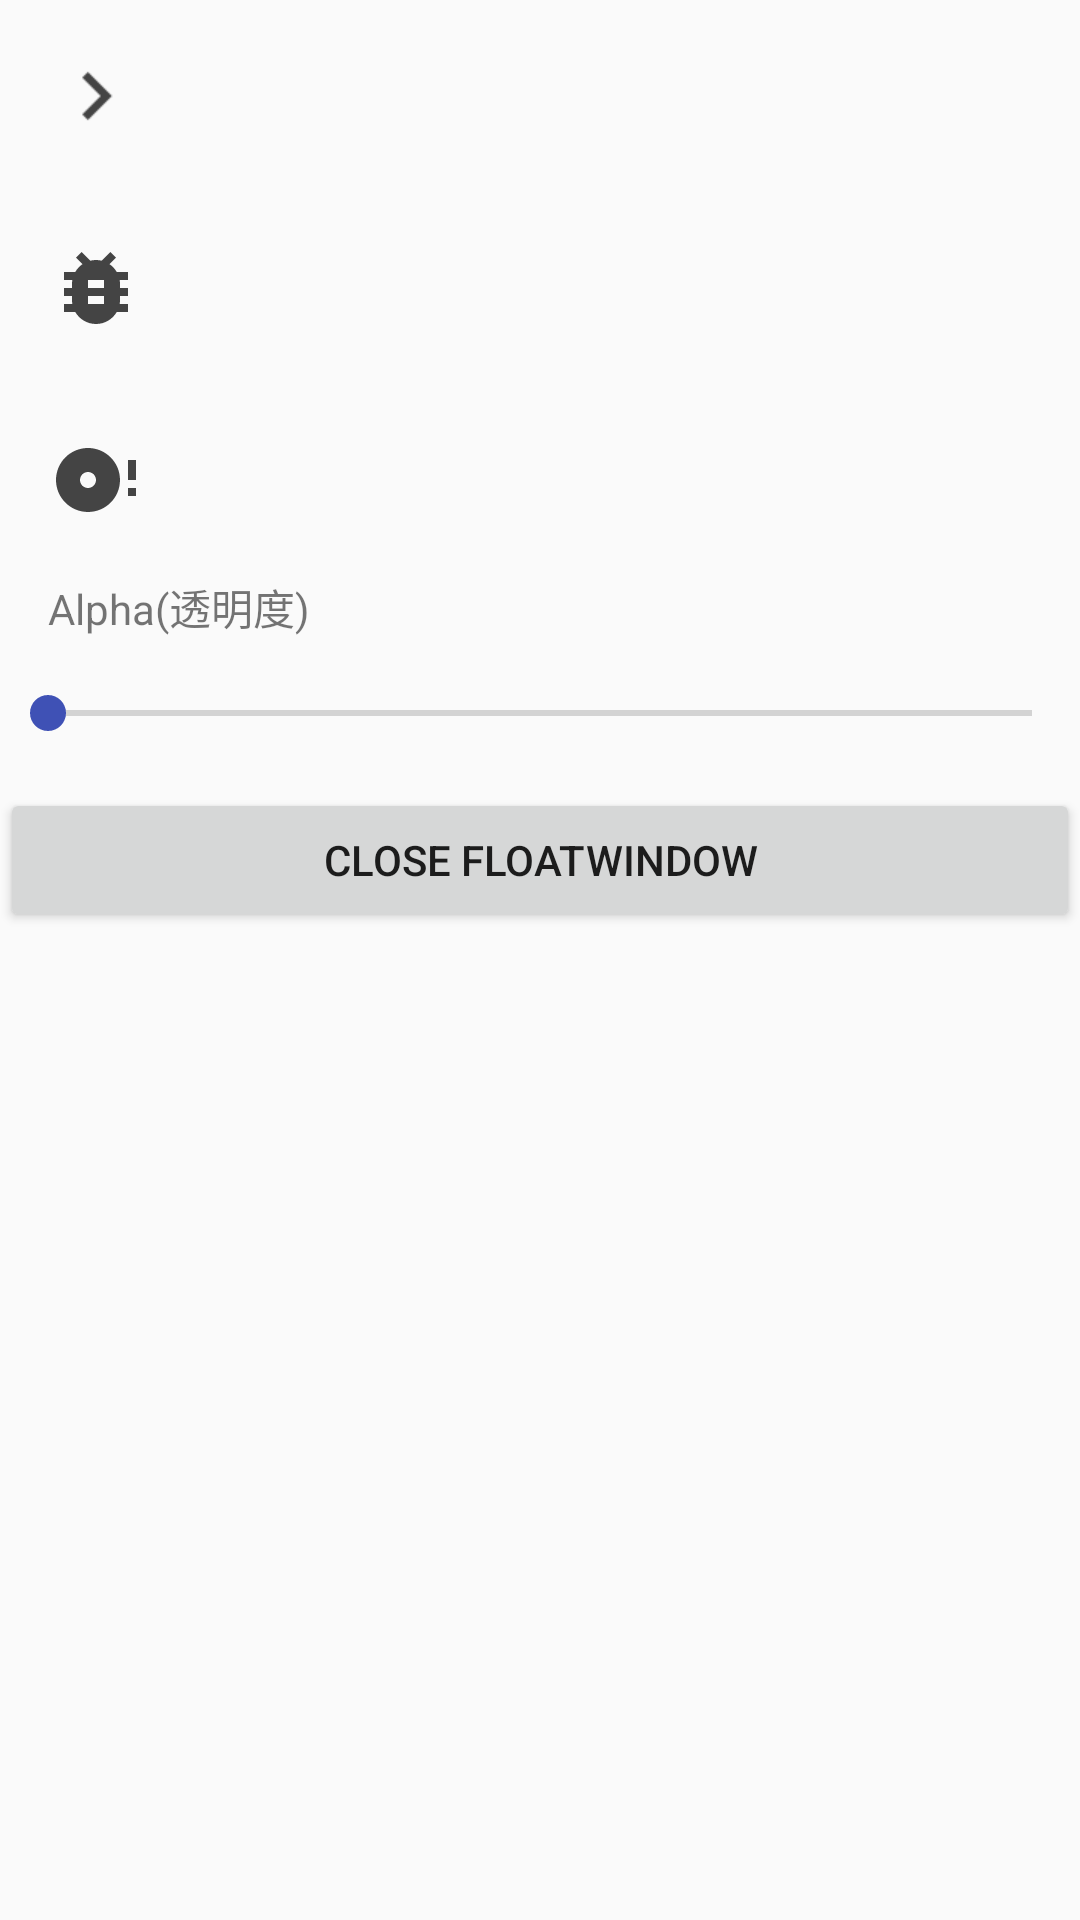

Where to tap for icons on this 1080*1920 app screen, as (x=x, y=y):
bug: (x=96, y=288)
chevron right: (x=97, y=96)
disk alert: (x=96, y=480)
